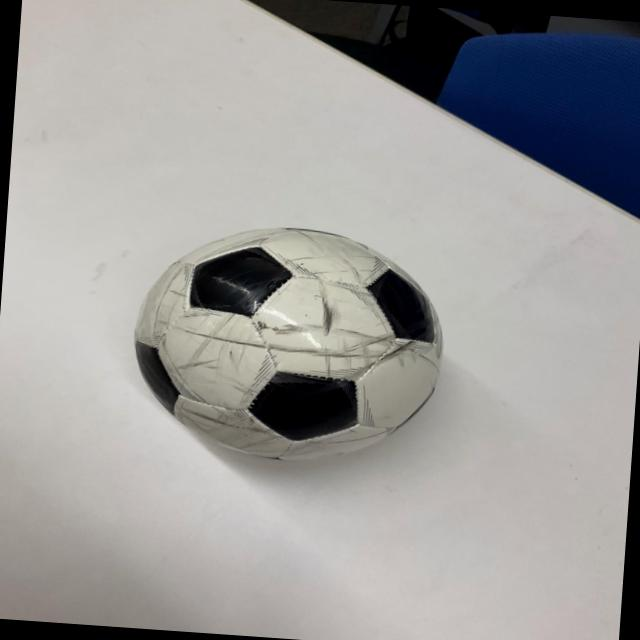Soccer Ball: (128, 215, 450, 472)
